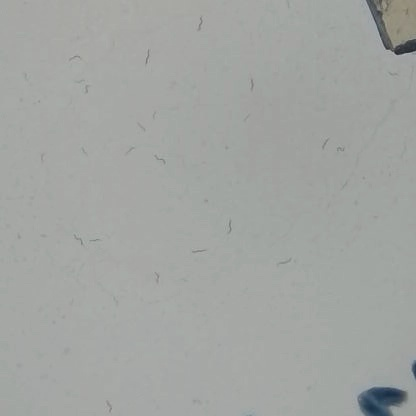worm: (185, 16, 208, 37), (181, 395, 205, 413), (67, 232, 86, 253), (275, 253, 297, 270), (316, 133, 330, 155), (88, 232, 104, 251), (189, 242, 209, 257), (140, 48, 154, 69), (67, 51, 84, 67), (382, 69, 404, 81), (335, 139, 347, 160), (102, 398, 114, 416), (37, 148, 47, 169), (134, 120, 149, 134), (123, 144, 138, 158), (337, 179, 351, 193), (81, 82, 95, 95), (225, 217, 235, 235), (247, 75, 258, 91), (20, 69, 32, 83), (240, 111, 255, 122), (152, 103, 161, 121), (153, 271, 165, 283), (72, 76, 85, 87), (80, 143, 90, 157), (112, 293, 120, 309), (281, 0, 290, 13)
